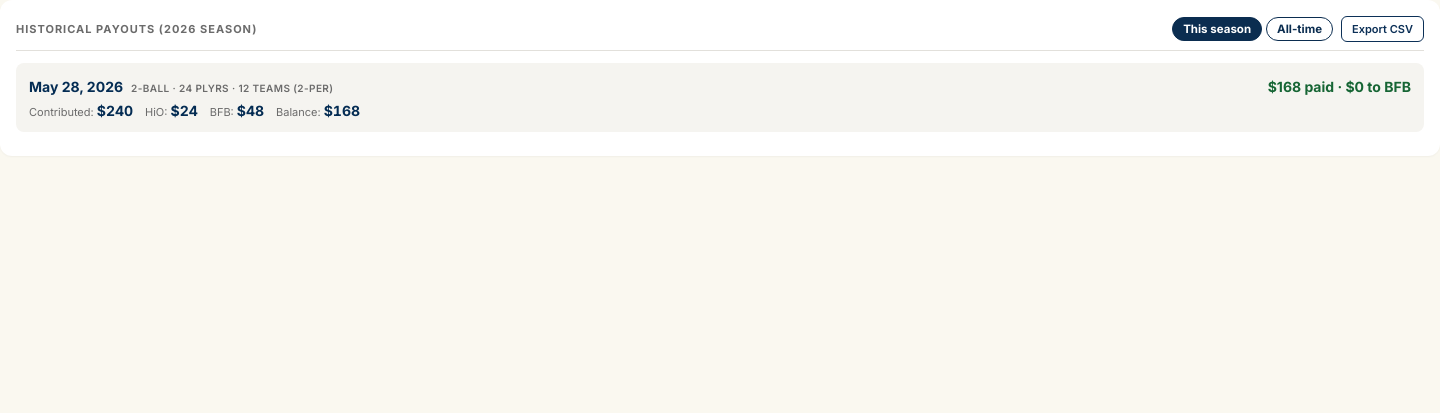
Test: HistoryPanel › renders the blind-draw redirect marker on a team that forfeited a share (S5)
What coordinates should you click on to do the following:
click the element with test id "winnings-history-row"
I would click on:
 (720, 98)
Its box is [16, 63, 1424, 132].
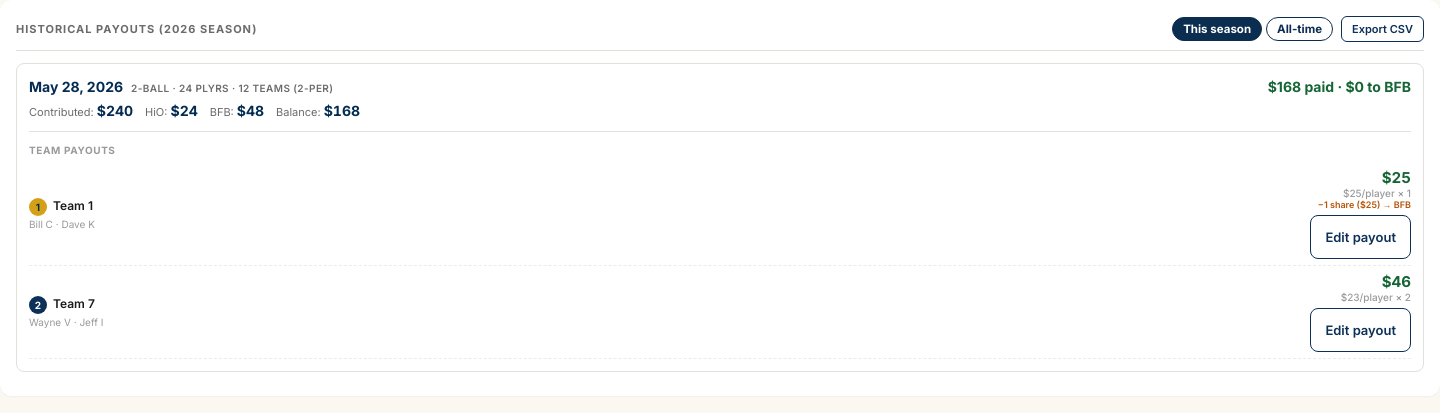
Check: the text "$25/player × 1" is shown, box [1343, 187, 1411, 199]
Check: the text with test id "payout-redirect-marker" reads "−1 share ($25) → BFB", box [1310, 199, 1411, 210]
